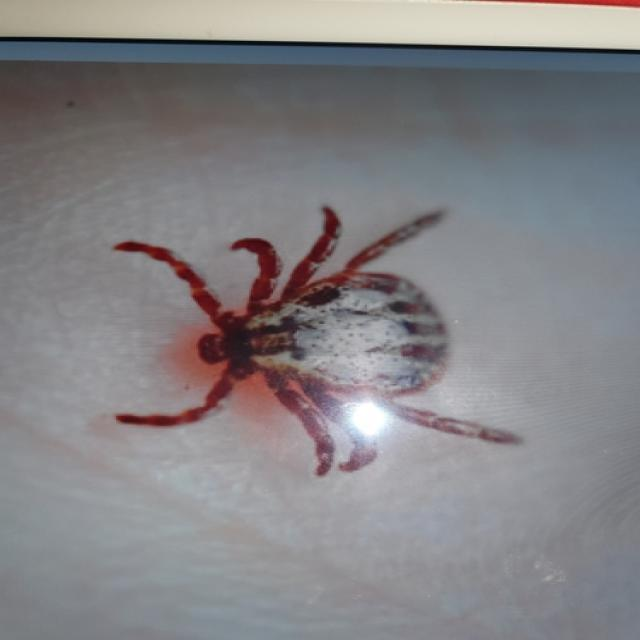Dermacentor Reticulatus-M: (118, 209, 522, 479)
